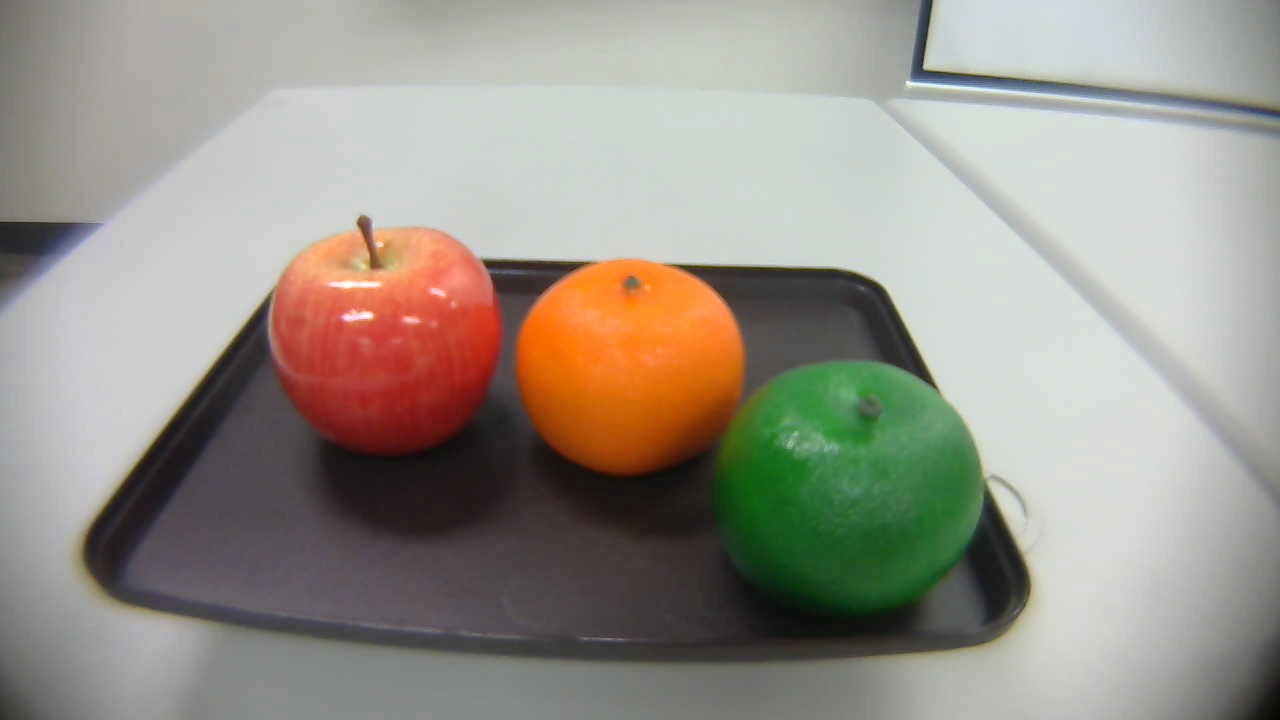green orange: (714, 363, 991, 627)
orange: (517, 256, 747, 487)
red apple: (260, 211, 504, 464)
